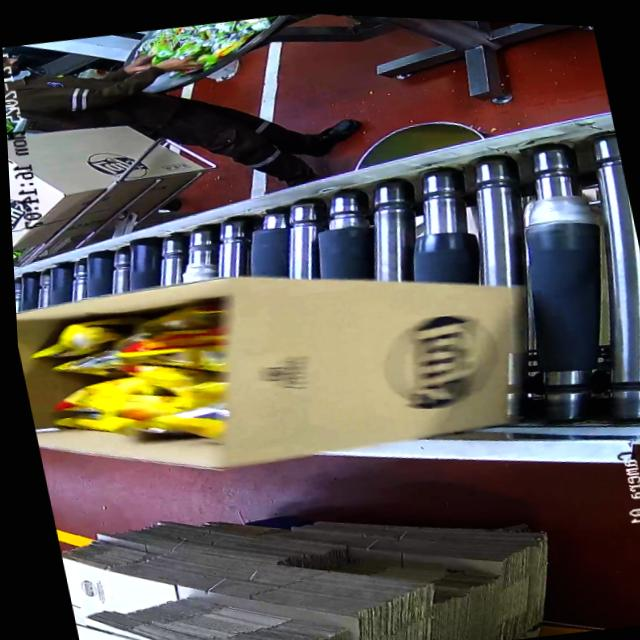SALTED: (25, 288, 244, 460)
